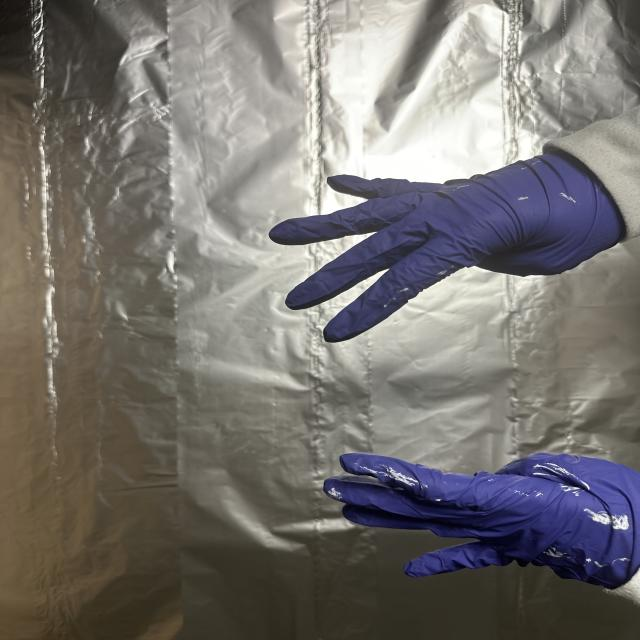gloves_contaminated: (270, 152, 623, 342), (324, 453, 640, 589)
